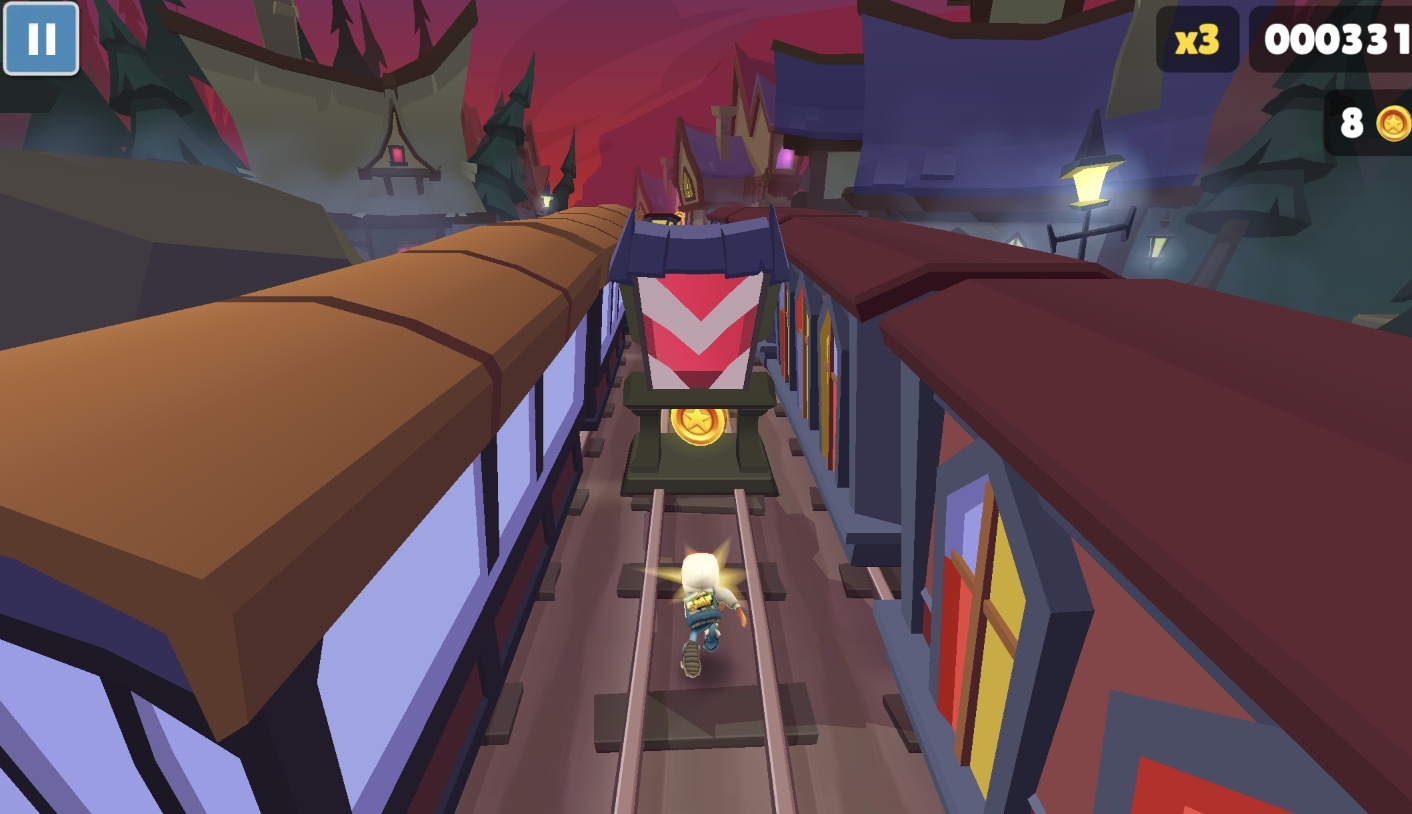overhead_barrier: (607, 206, 788, 498)
train: (709, 206, 1412, 814), (0, 205, 632, 814), (640, 212, 682, 225)
